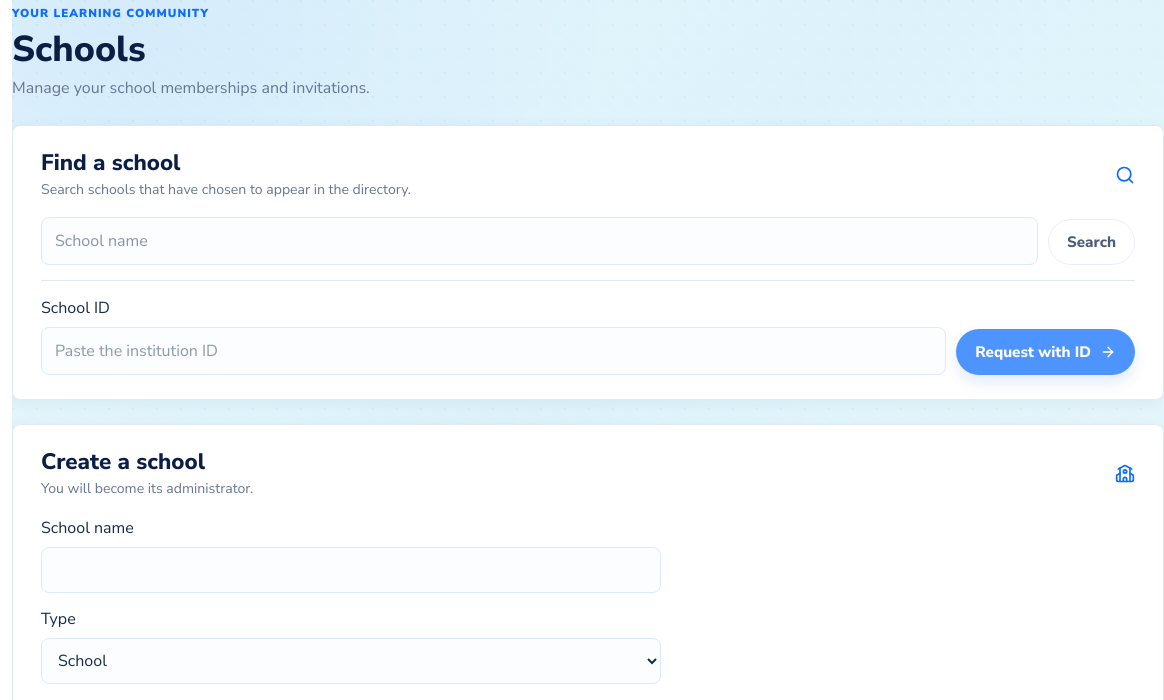
SchoolsPage › shows a retry action when directory search fails
This screenshot has width=1164, height=700.
Type "Northside" into the field named "Search schools" at {"x": 540, "y": 241}, box [41,217,1038,265]
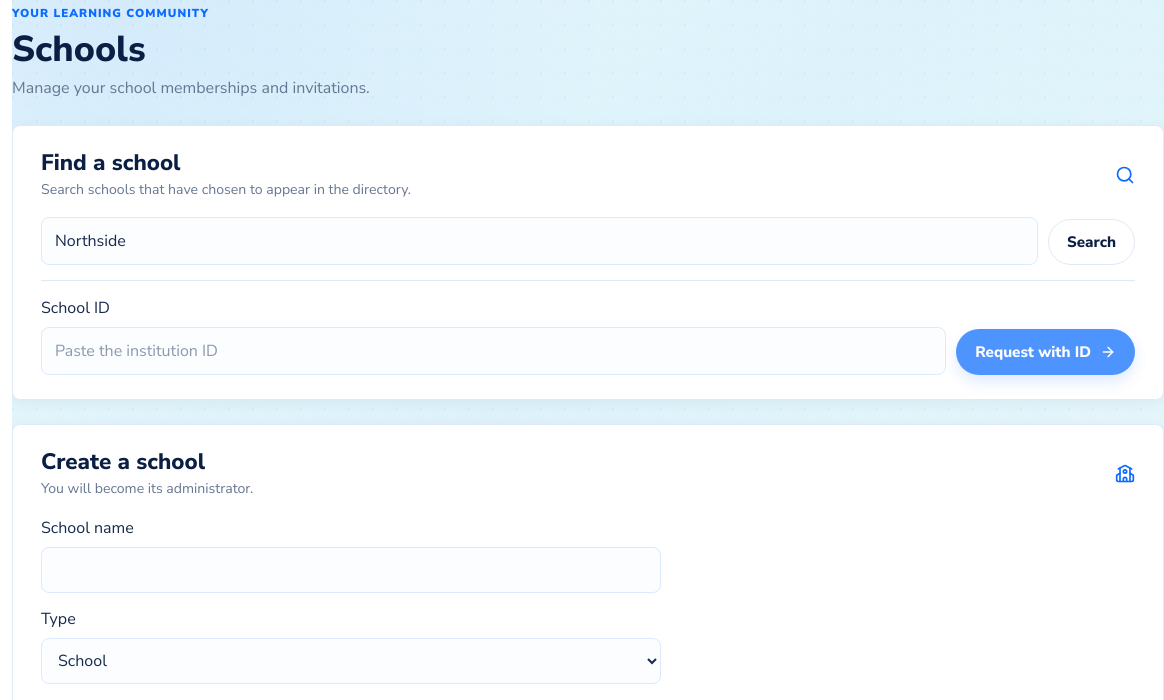
Click the button "Search" at {"x": 1092, "y": 242}, box [1048,219,1135,265]
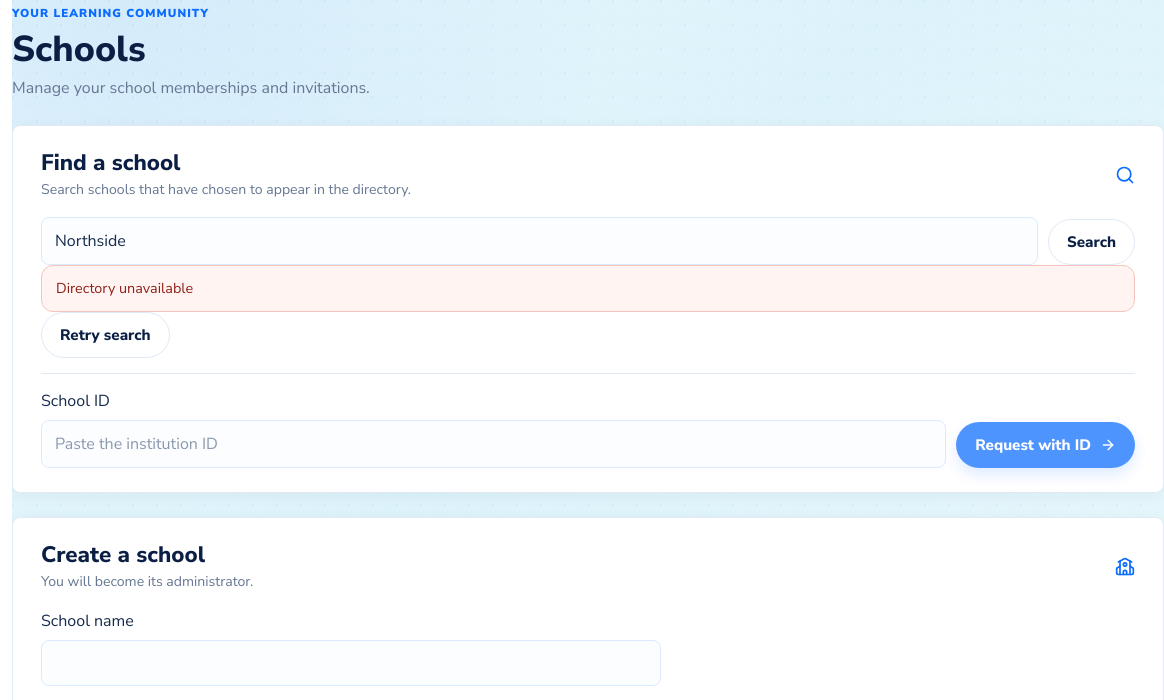
Check: the message reads "Directory unavailable", box [56,278,193,298]
Check: the button "Retry search" is shown, box [41,312,170,358]
